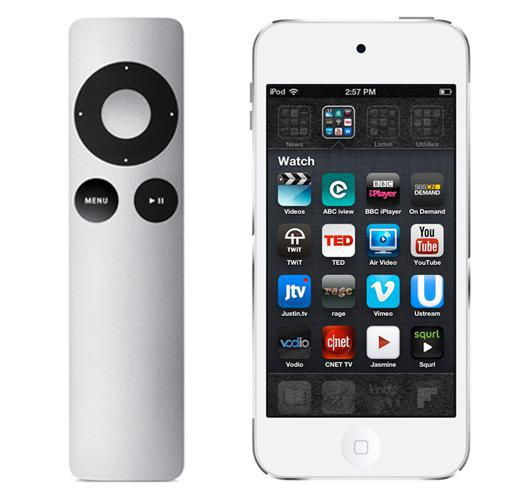phone: (259, 18, 470, 467)
